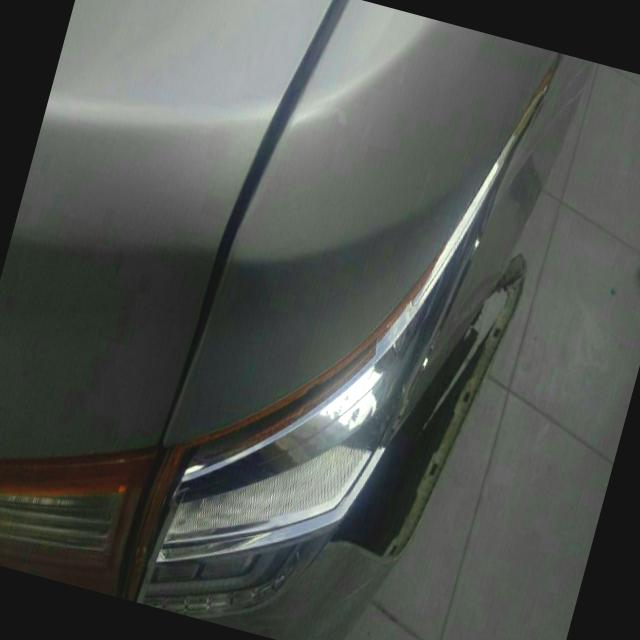Dechirure: (330, 246, 520, 585)
Phare abime: (131, 427, 394, 640)
